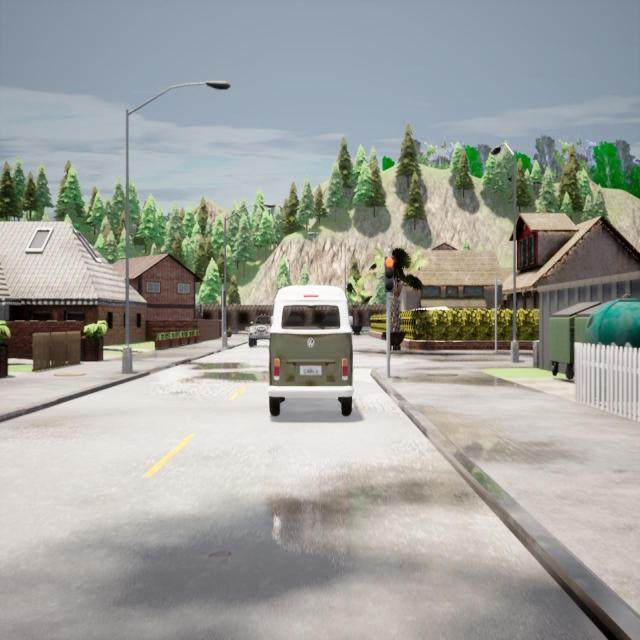Vehicle: (268, 286, 353, 416), (248, 315, 271, 347)
traffic_light: (385, 257, 394, 292), (497, 284, 503, 306), (221, 291, 226, 307), (199, 304, 202, 314)
